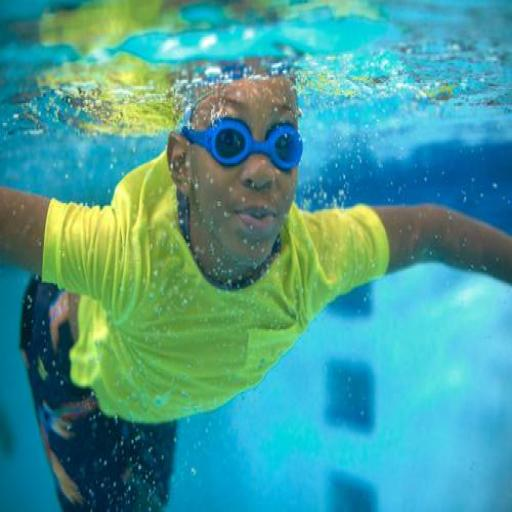swimming: (0, 57, 511, 510)
